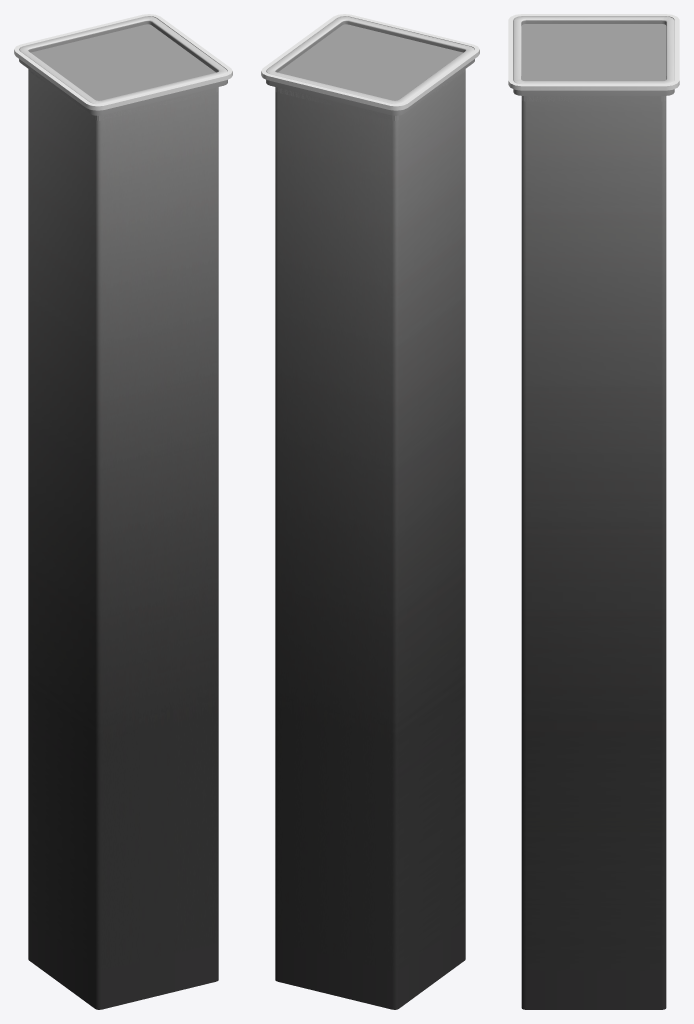
The model's file is BLOCK_3D_SQUARE.fbx.
The picture shows the model from 3 angles, left to right: view 1: azimuth 30°, elevation 25°; view 2: azimuth 150°, elevation 25°; view 3: azimuth 270°, elevation 25°; orthographic projection. The views are drawn at different scales.
Parts seen in each view (by area): view 1: Square_4_1, Square_4_1.001, OUTLINE; view 2: Square_4_1, Square_4_1.001, OUTLINE; view 3: Square_4_1, Square_4_1.001, OUTLINE.
Boxes of the visible parts, x1,y1,x2,y2 form: Square_4_1: [19, 16, 227, 1009]; Square_4_1.001: [28, 24, 218, 120]; OUTLINE: [14, 14, 232, 110]; Square_4_1: [266, 16, 474, 1009]; Square_4_1.001: [275, 24, 465, 120]; OUTLINE: [261, 14, 479, 110]; Square_4_1: [513, 16, 674, 1009]; Square_4_1.001: [521, 24, 666, 101]; OUTLINE: [508, 14, 679, 90].
Bounding box in the file's own units: 212 × 1270 × 212.
